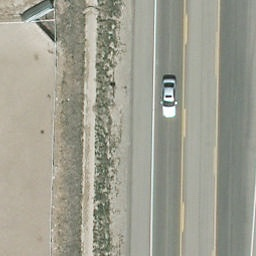car: (162, 74, 177, 118)
